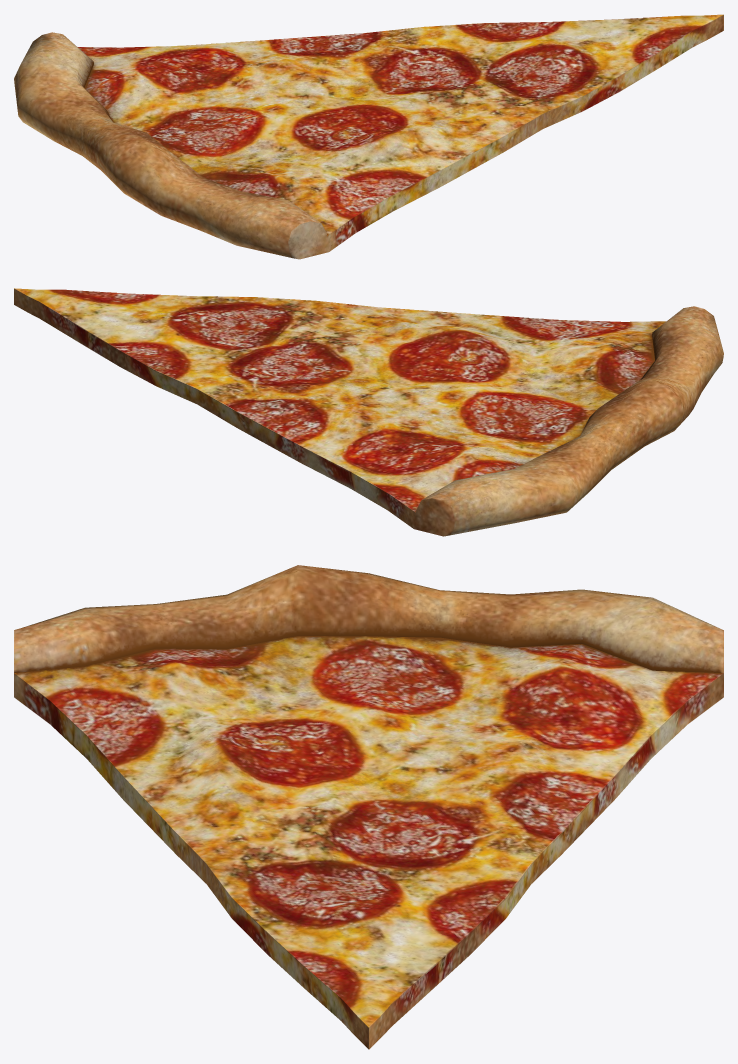
Rendered from PizzaSlice.fbx.
The picture shows the model from 3 angles, top to bottom: view 1: azimuth 30°, elevation 25°; view 2: azimuth 150°, elevation 25°; view 3: azimuth 270°, elevation 25°; orthographic projection. The views are drawn at different scales.
Visible parts, largest first — view 1: Pizza; view 2: Pizza; view 3: Pizza.
Boxes of the visible parts, box(x1,y1,x2,y2) form: Pizza: box(14, 14, 723, 259); Pizza: box(14, 288, 723, 536); Pizza: box(14, 565, 723, 1049).
Bounding box in the file's own units: 283 × 23.35 × 200.
